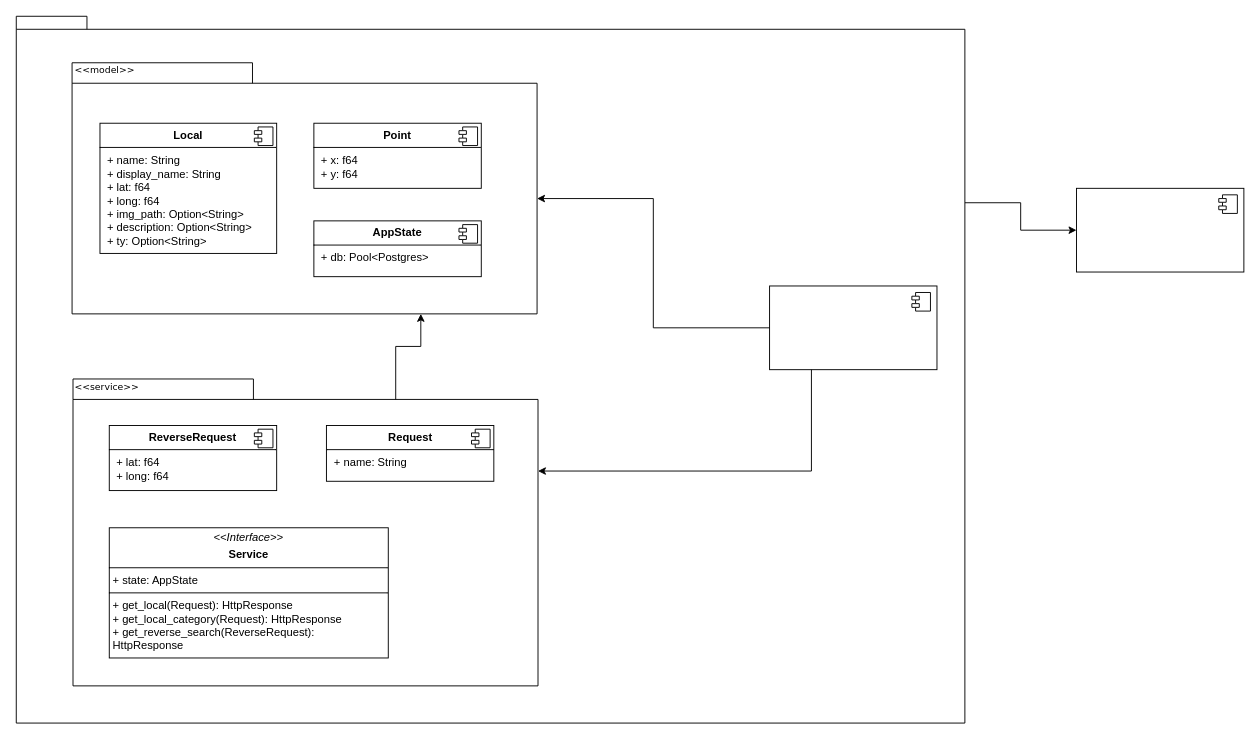
This 1260x739 diagram has some shape labels left out. Each missing label, with the centre of its shape:
"«component» main" goes at point 853,327.
"«database» locais" goes at point 1160,229.
